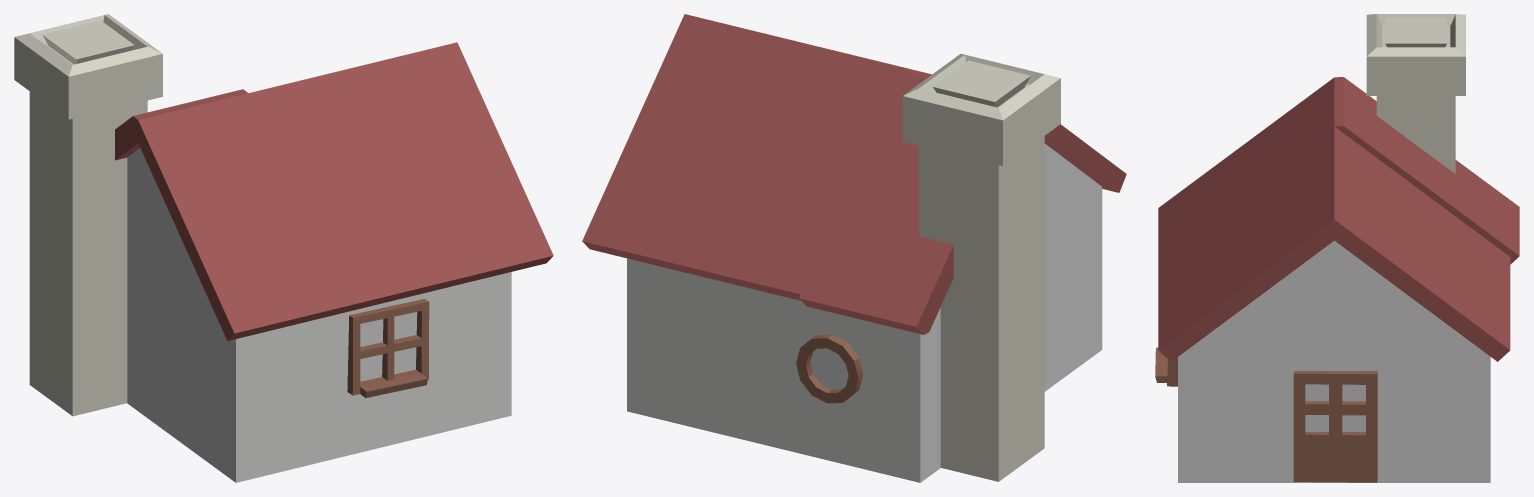
File: house2.fbx
3 renders of one model, left to right at view 1: azimuth 30°, elevation 25°; view 2: azimuth 150°, elevation 25°; view 3: azimuth 270°, elevation 25°, orthographic. The views are drawn at different scales.
Visible parts, largest first — view 1: Roof, Base, Chimney, Deco; view 2: Roof, Base, Chimney, Deco; view 3: Roof, Base, Chimney, Deco.
Boxes of the visible parts, x1,y1,x2,y2 form: Roof: (115, 42, 553, 340); Base: (127, 148, 511, 482); Chimney: (14, 14, 162, 416); Deco: (347, 298, 429, 397); Roof: (582, 14, 1126, 334); Base: (627, 143, 1102, 482); Chimney: (902, 53, 1060, 481); Deco: (796, 334, 862, 403); Roof: (1158, 77, 1519, 361); Base: (1178, 240, 1490, 482); Chimney: (1366, 14, 1465, 173); Deco: (1155, 347, 1377, 482).
Bounding box in the file's own units: 4891 × 4430 × 4551.
